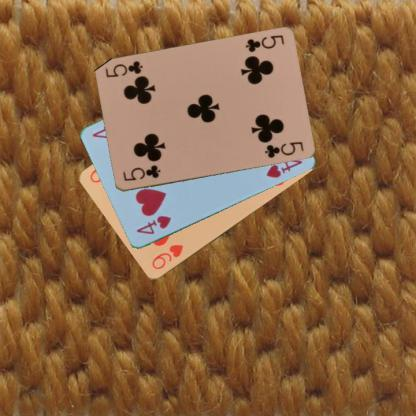4h: (133, 214, 173, 236)
5c: (242, 32, 286, 54), (120, 162, 162, 183)
9h: (148, 242, 185, 271)
